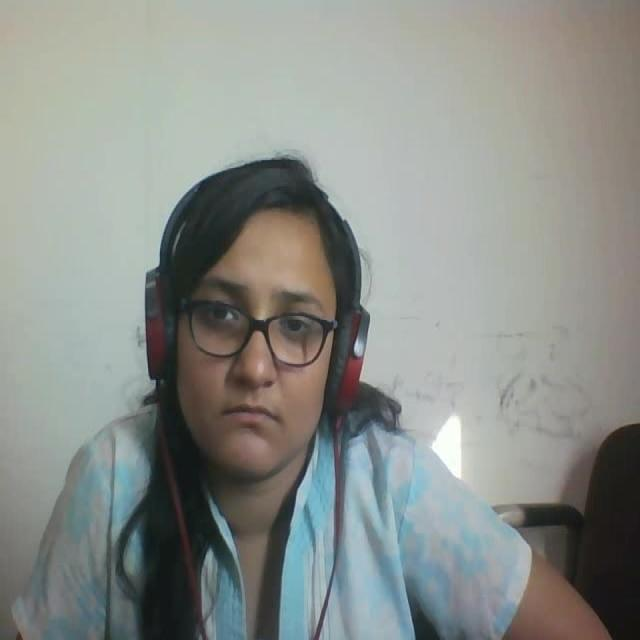Engaged: (130, 127, 391, 502)
